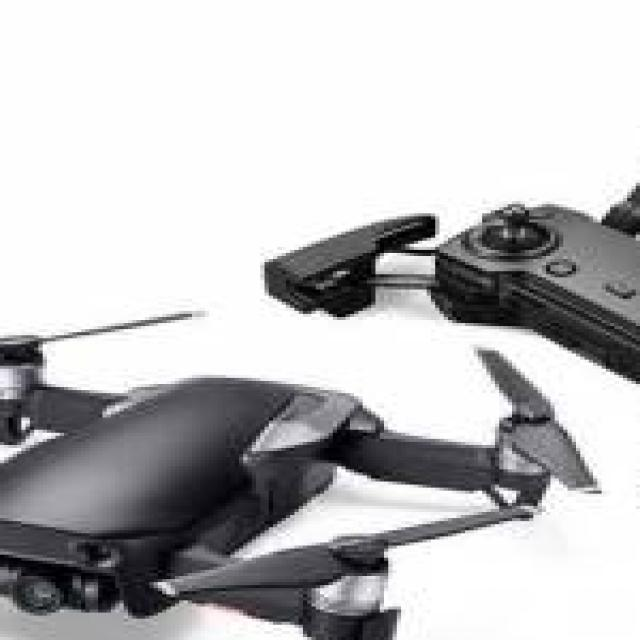drone: (0, 335, 619, 640)
